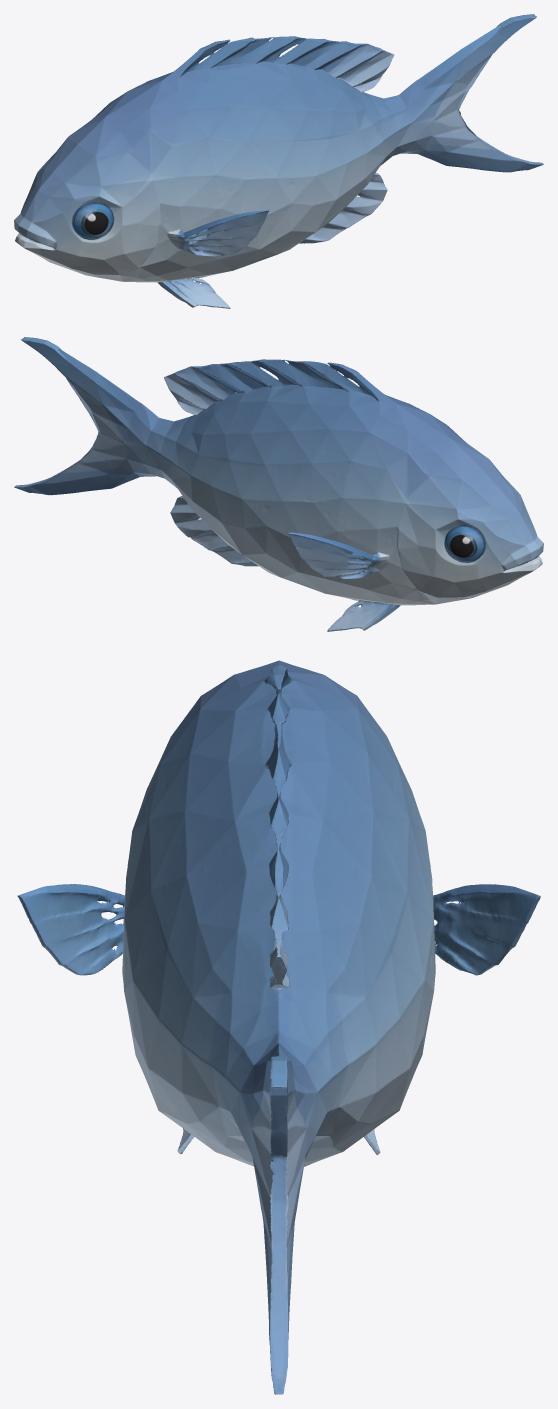
File: Castañeta-cola-de-tijera.glb
3 renders of one model, top to bottom at view 1: azimuth 30°, elevation 25°; view 2: azimuth 150°, elevation 25°; view 3: azimuth 270°, elevation 25°, orthographic. The views are drawn at different scales.
Visible parts, largest first — view 1: tripo_node_8c91963b-6446-456c-8a86-a50f419e05be; view 2: tripo_node_8c91963b-6446-456c-8a86-a50f419e05be; view 3: tripo_node_8c91963b-6446-456c-8a86-a50f419e05be.
Boxes of the visible parts, <box> form: tripo_node_8c91963b-6446-456c-8a86-a50f419e05be: <box>14,14,543,308</box>; tripo_node_8c91963b-6446-456c-8a86-a50f419e05be: <box>14,337,543,631</box>; tripo_node_8c91963b-6446-456c-8a86-a50f419e05be: <box>17,660,540,1394</box>.
Bounding box in the file's own units: 1 × 0.4472 × 0.432.
Materials: 1 (1 with a texture image).
